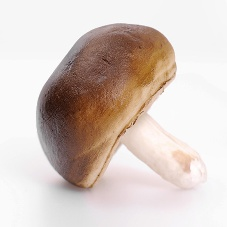mushroom: (36, 19, 212, 195)
